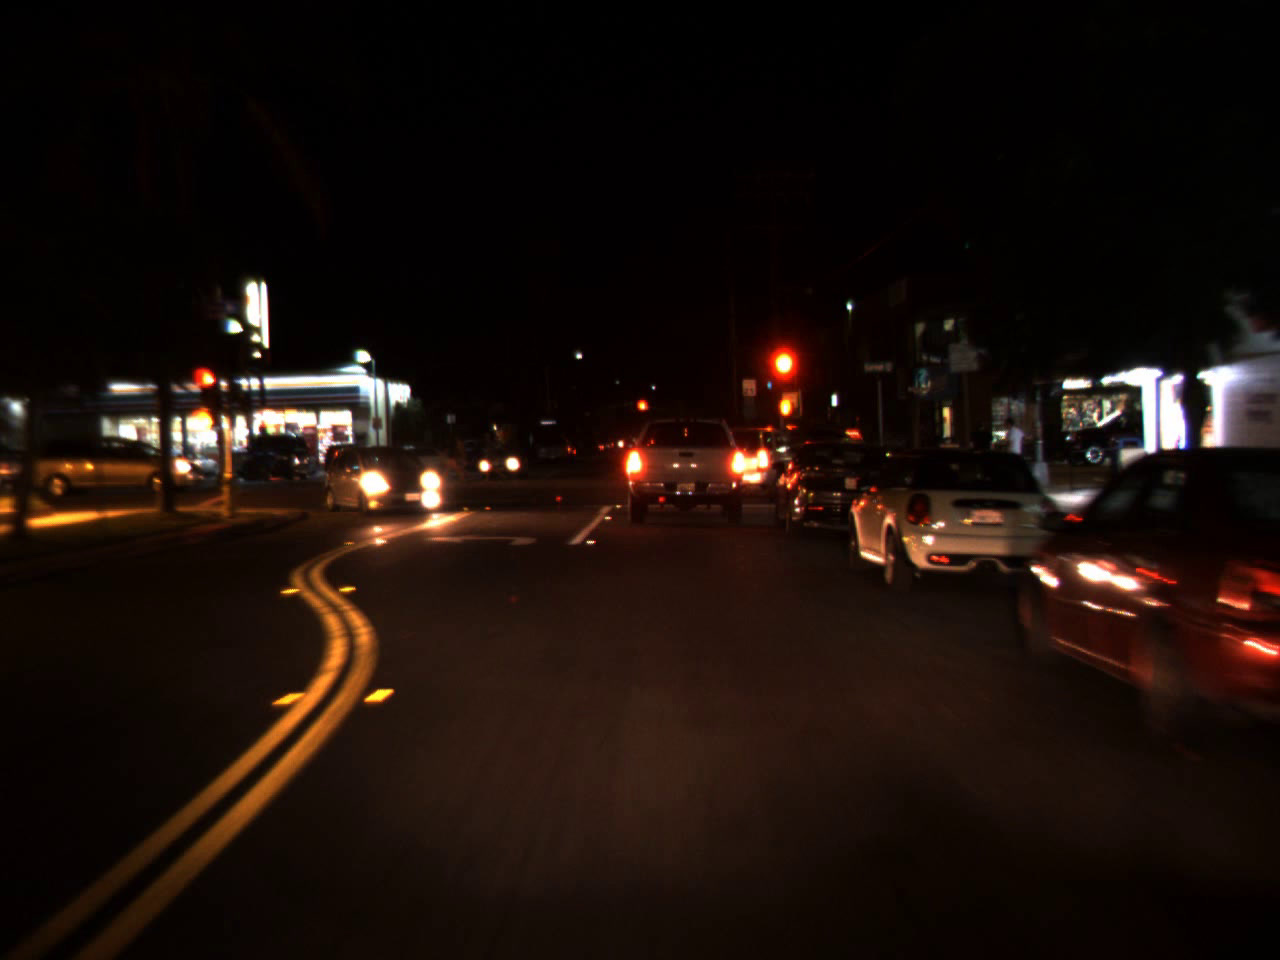stop: (766, 345, 794, 407), (191, 364, 221, 415), (635, 397, 650, 424)
